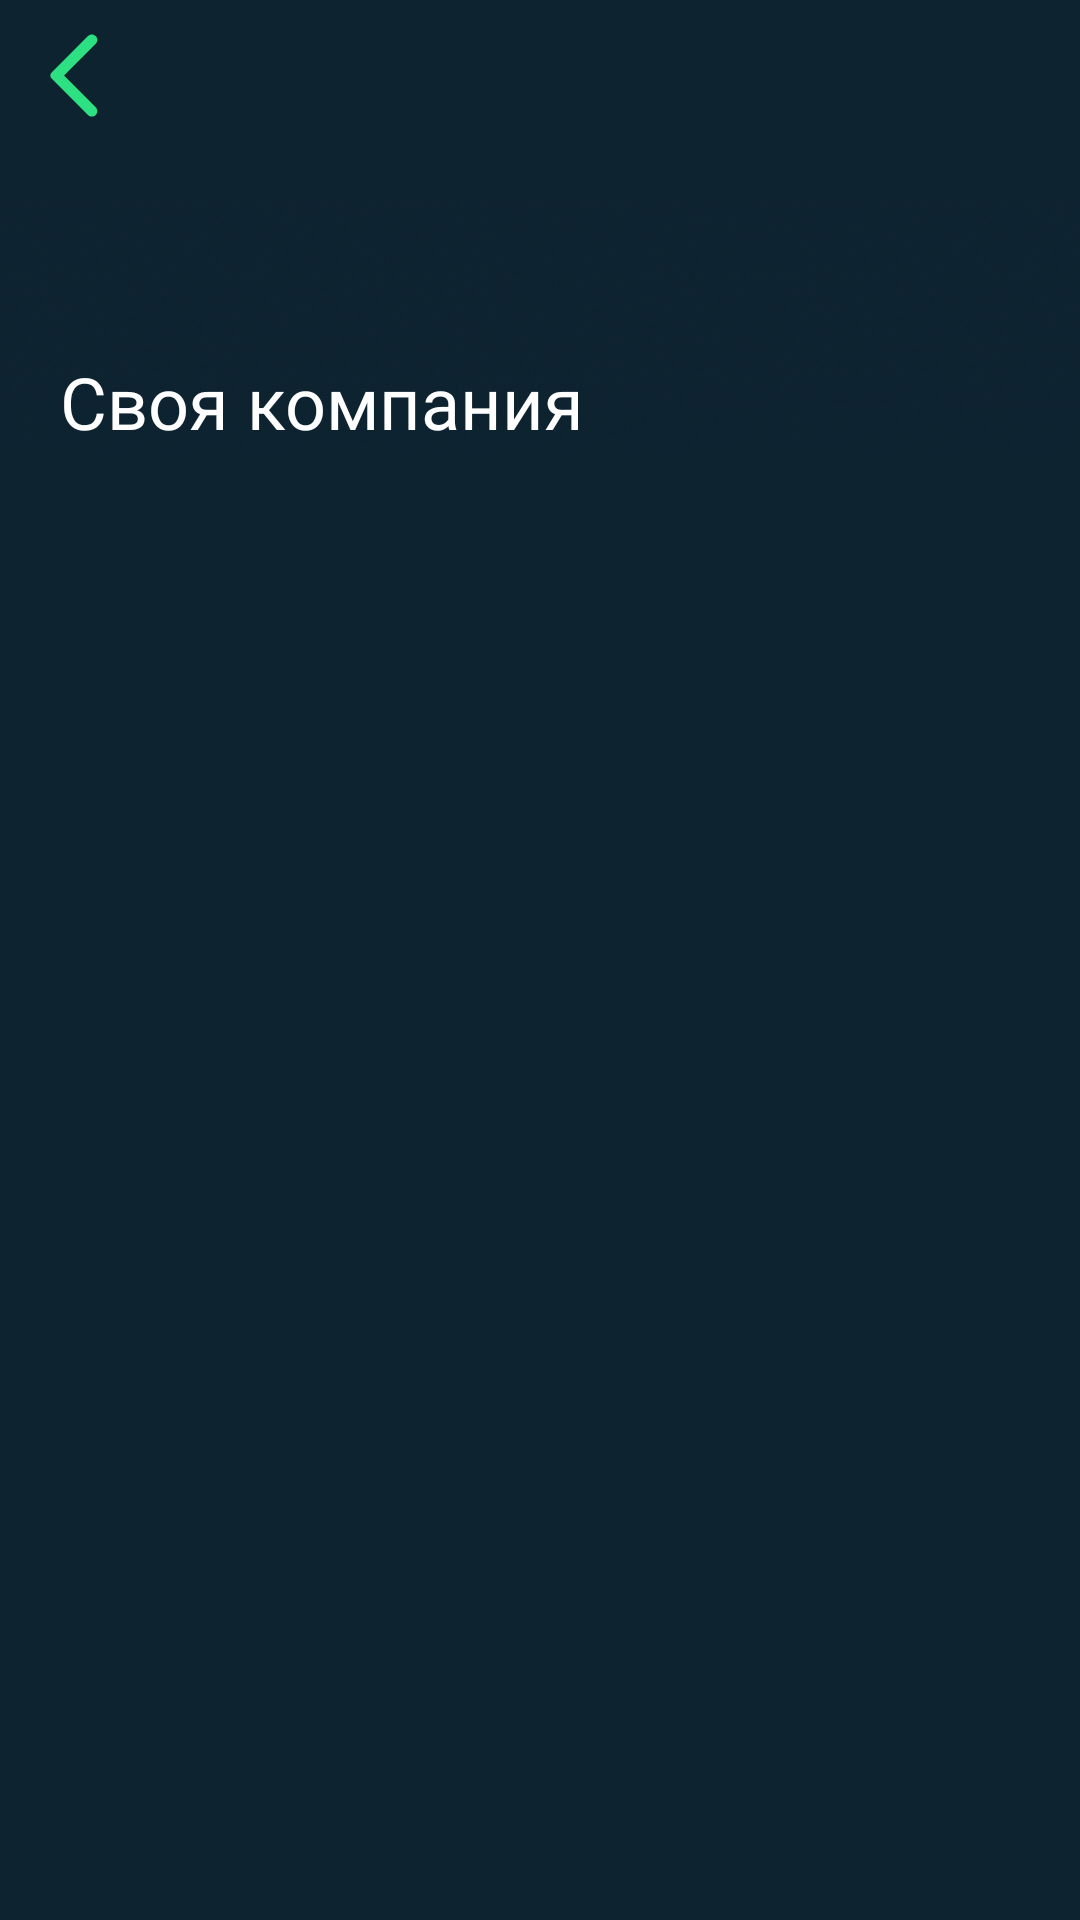

Point at icon controls on the screen. Image size 1080x1920, points as point (x, y).
arrow back: point (74, 75)
